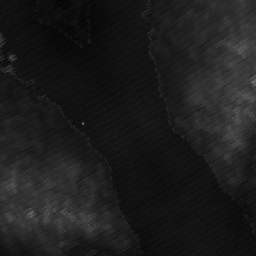Target: (80, 121, 86, 126)
